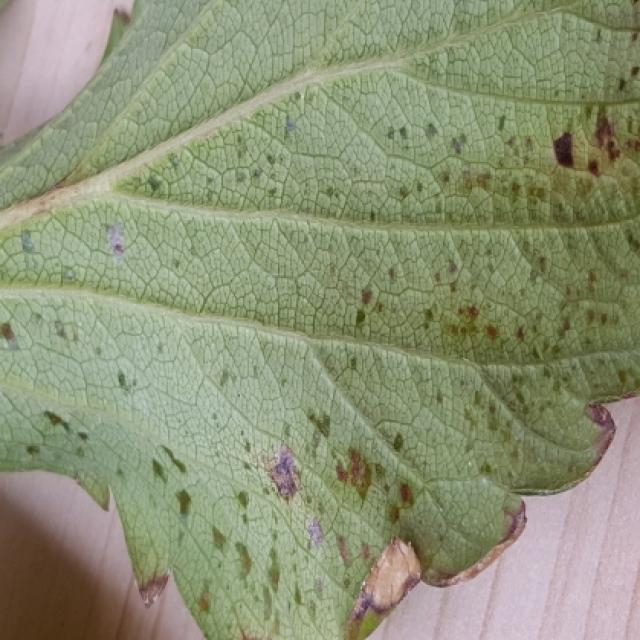Angular Leafspot: (0, 0, 638, 638)
